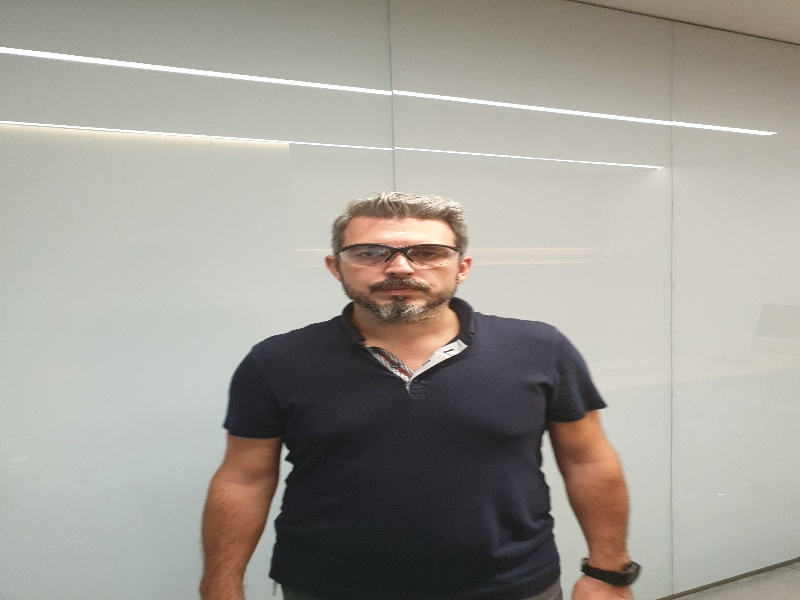Gozluk: (334, 243, 457, 267)
